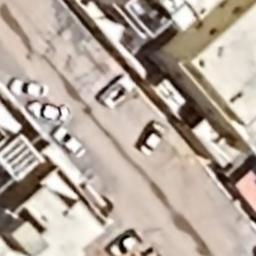sedan: (51, 124, 87, 161), (136, 118, 168, 156), (7, 75, 52, 98), (26, 100, 72, 122)
van: (96, 76, 136, 108)
